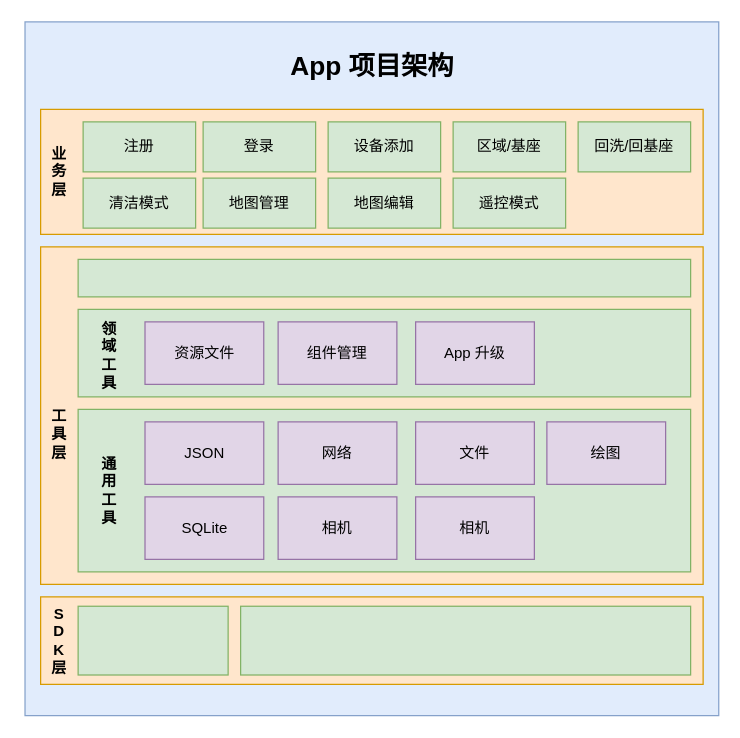
This 740x738 diagram has some shape labels left out. Each missing label, with the box of its shape:
三方库 Alomafire、SnapKit、SwiftyJSON、OpenCV: (239, 605, 691, 675)
工具层接口: (77, 258, 691, 297)
系统 SDK: (77, 605, 228, 675)
